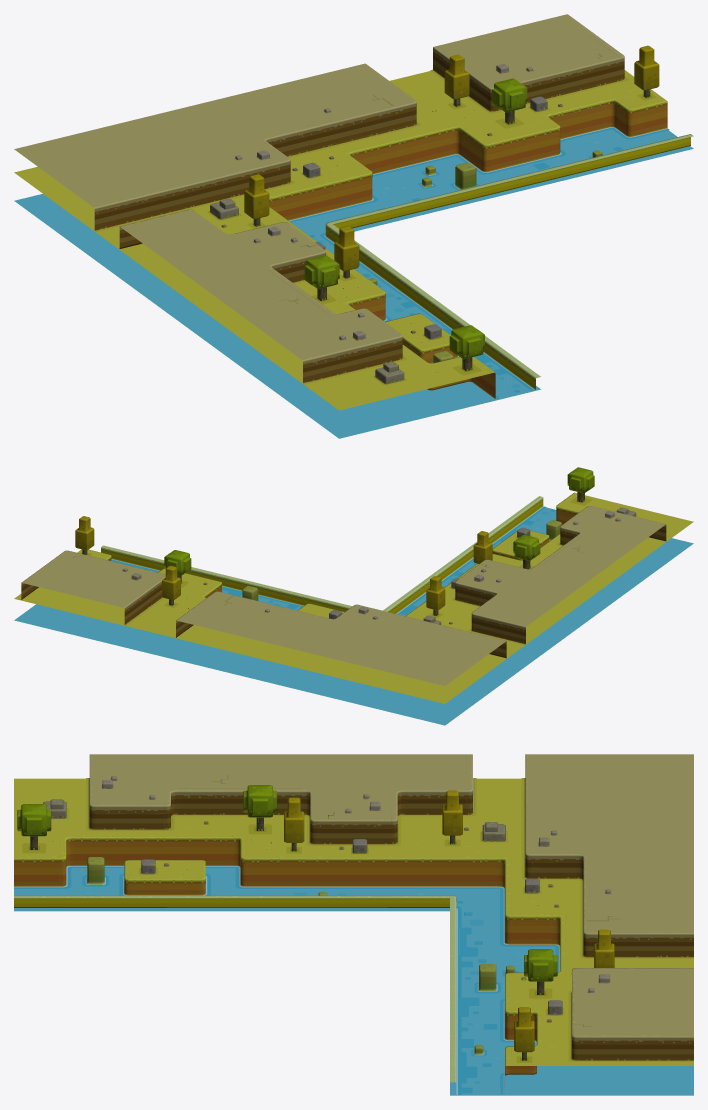
File: C_water2_out_RD.fbx
3 views of the same model, one above another, from view 1: azimuth 30°, elevation 25°; view 2: azimuth 150°, elevation 25°; view 3: azimuth 270°, elevation 25° (orthographic). The views are drawn at different scales.
Parts seen in each view (by area): view 1: C_water2_out_RD; view 2: C_water2_out_RD; view 3: C_water2_out_RD.
Boxes of the visible parts, bbox=[...] form: C_water2_out_RD: bbox=[14, 14, 693, 438]; C_water2_out_RD: bbox=[14, 467, 693, 725]; C_water2_out_RD: bbox=[14, 754, 693, 1095].
Bounding box in the file's own units: 117 × 15.34 × 117.
1 material, 1 textured.
